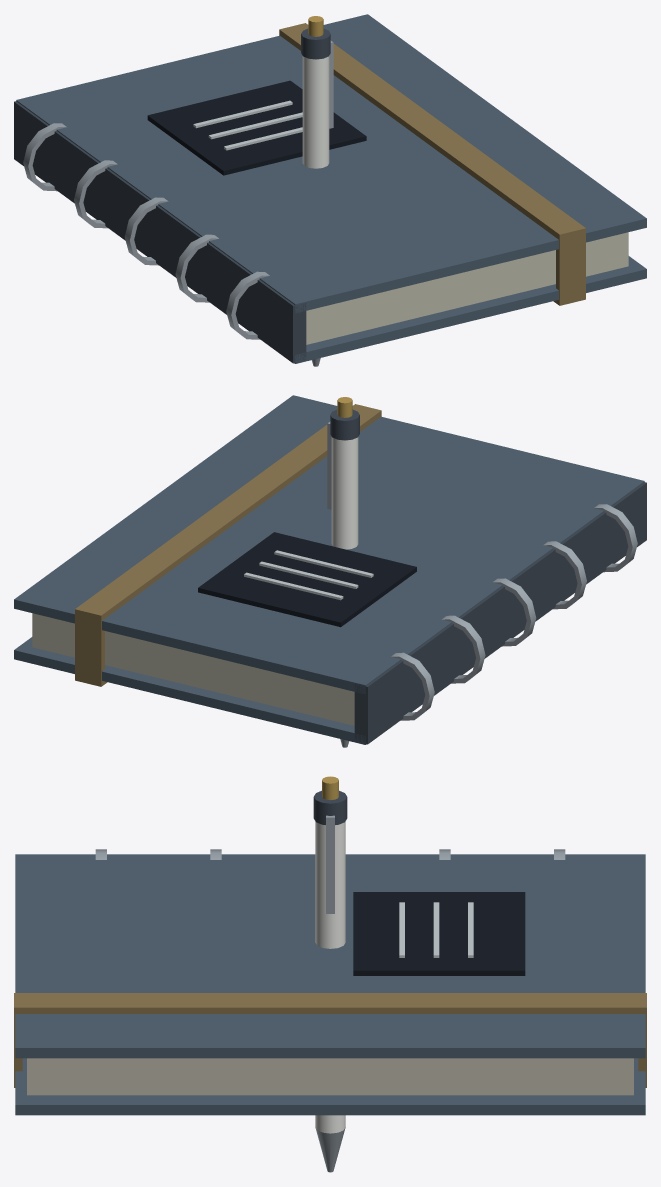
Rendered from props.glb.
The picture shows the model from 3 angles, top to bottom: view 1: azimuth 30°, elevation 25°; view 2: azimuth 150°, elevation 25°; view 3: azimuth 270°, elevation 25°; orthographic projection. The views are drawn at different scales.
Visible parts, largest first — view 1: prop_notebook, prop_pen; view 2: prop_notebook, prop_pen; view 3: prop_notebook, prop_pen.
Part boxes in pixels (<box>): prop_notebook: <box>14,14,646,363</box>; prop_pen: <box>301,16,333,366</box>; prop_notebook: <box>14,395,646,744</box>; prop_pen: <box>327,397,359,747</box>; prop_notebook: <box>14,849,646,1115</box>; prop_pen: <box>313,776,347,1172</box>.
Size of the model in its own units: 0.1722 by 0.15 by 0.22.
